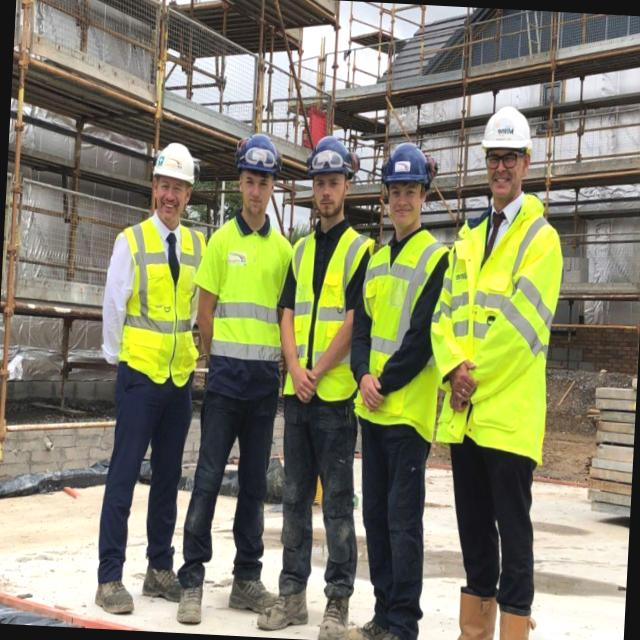helmet: (478, 97, 545, 170), (144, 134, 204, 193), (303, 129, 360, 186), (384, 138, 438, 194), (236, 128, 286, 188)
no-goggles: (152, 176, 189, 202), (487, 147, 528, 169), (236, 172, 276, 194), (386, 180, 424, 202), (311, 171, 345, 192)
vest: (438, 190, 559, 433), (356, 216, 449, 422), (107, 202, 205, 390), (285, 208, 370, 406), (204, 212, 293, 394)
